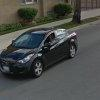Car: (2, 17, 86, 84)
